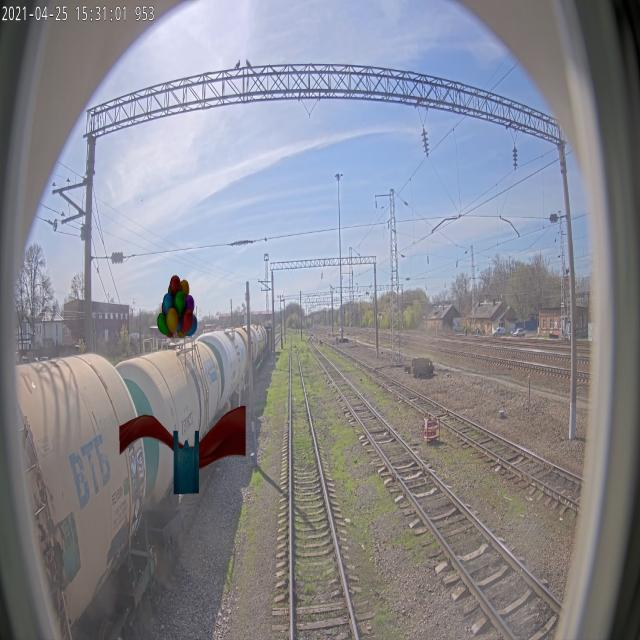balloon: (157, 274, 197, 338)
floating object: (119, 406, 246, 470)
plastic bag: (173, 430, 199, 494)
